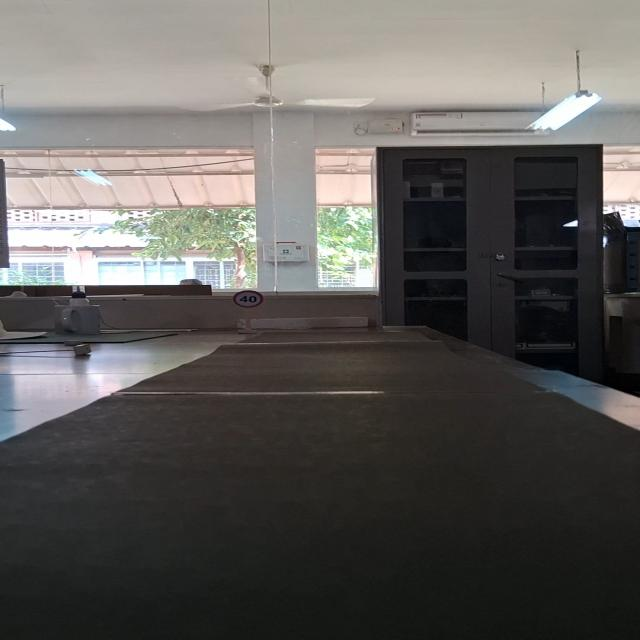Speed40: (232, 290, 265, 308)
